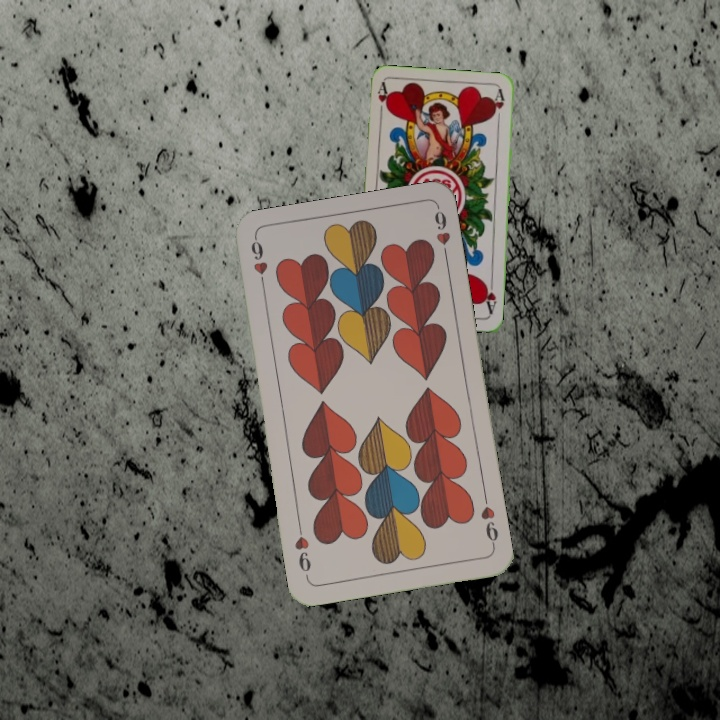H9: (476, 491, 501, 550), (247, 235, 270, 294)
HA: (480, 276, 499, 316), (373, 80, 392, 120)
